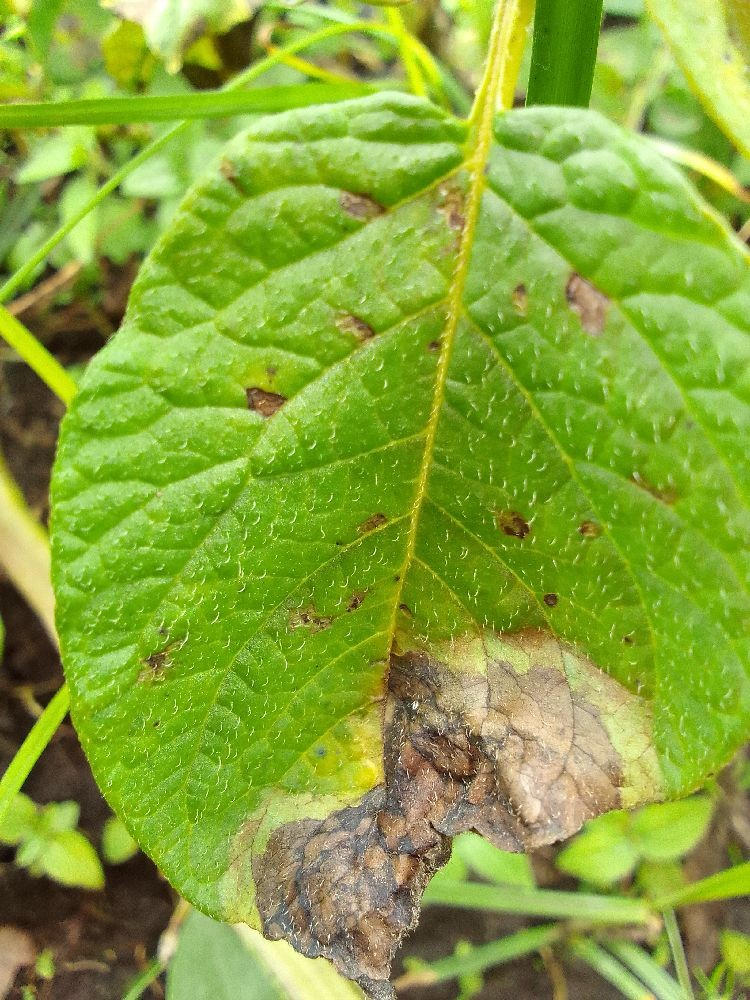late_blight: (0, 680, 221, 1000), (0, 235, 157, 386), (662, 882, 750, 1000)
